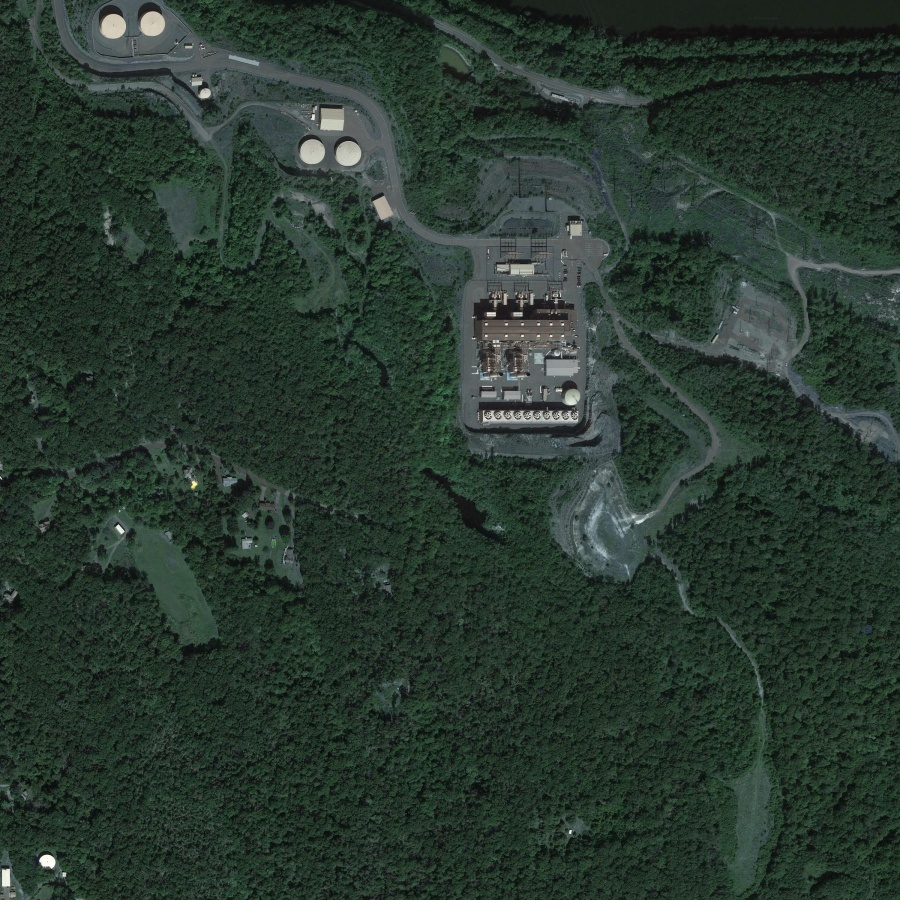PowerPlant: (465, 200, 611, 440)
